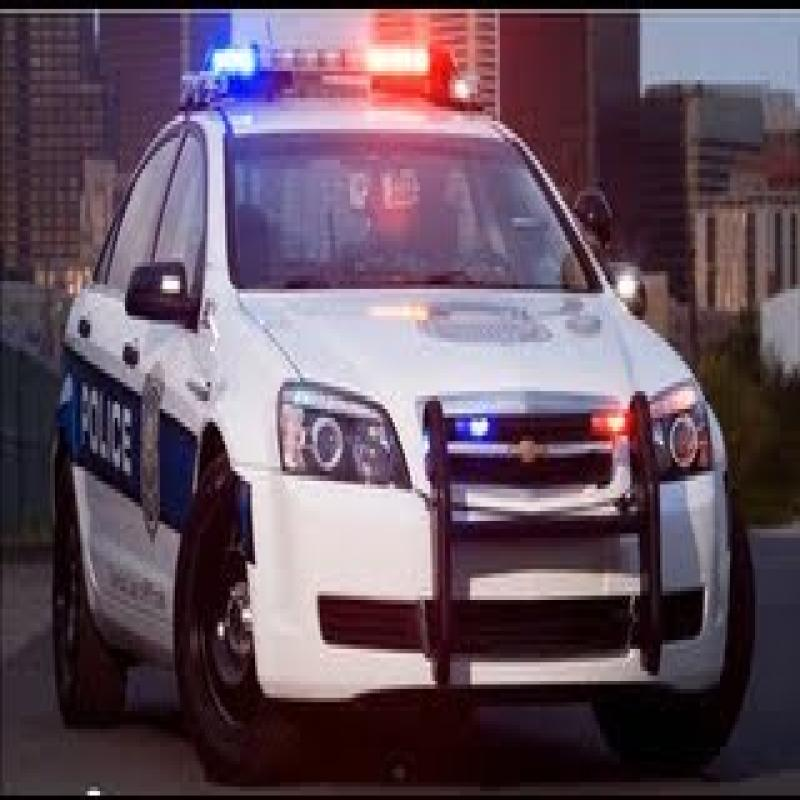AmbulanceSiren: (183, 14, 465, 107)
